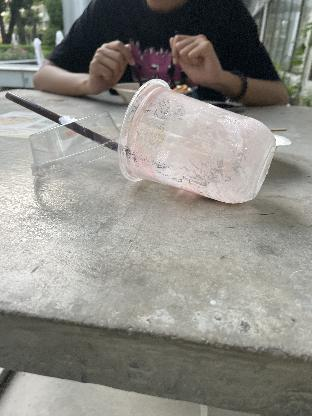Plastic Cup: (128, 80, 278, 196)
